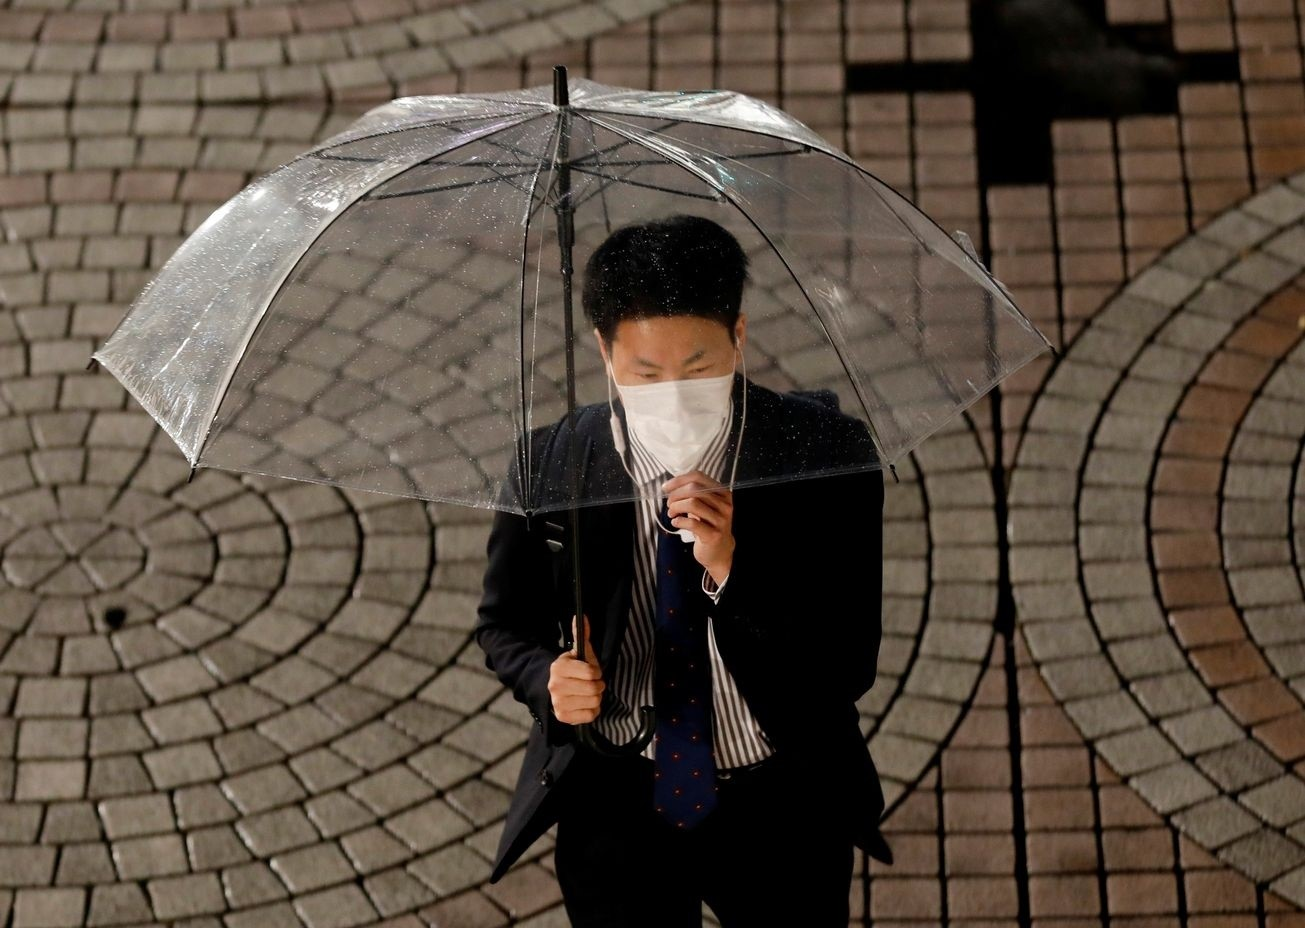face_with_mask: (594, 250, 748, 497)
